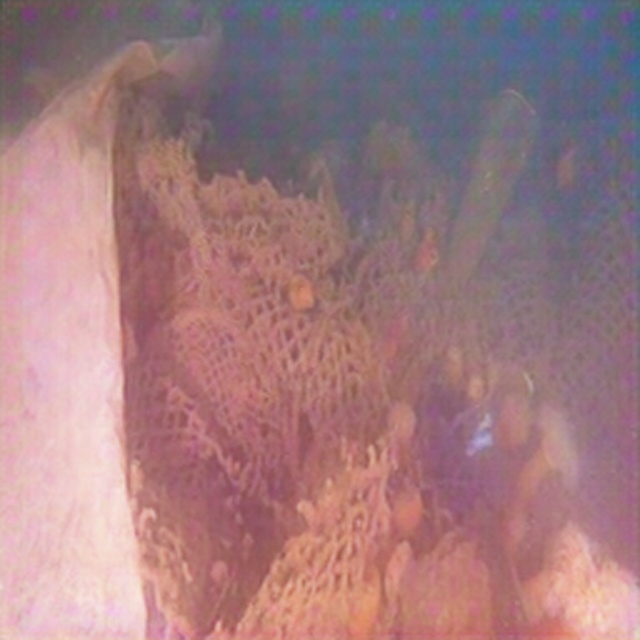mine: (110, 67, 640, 640)
